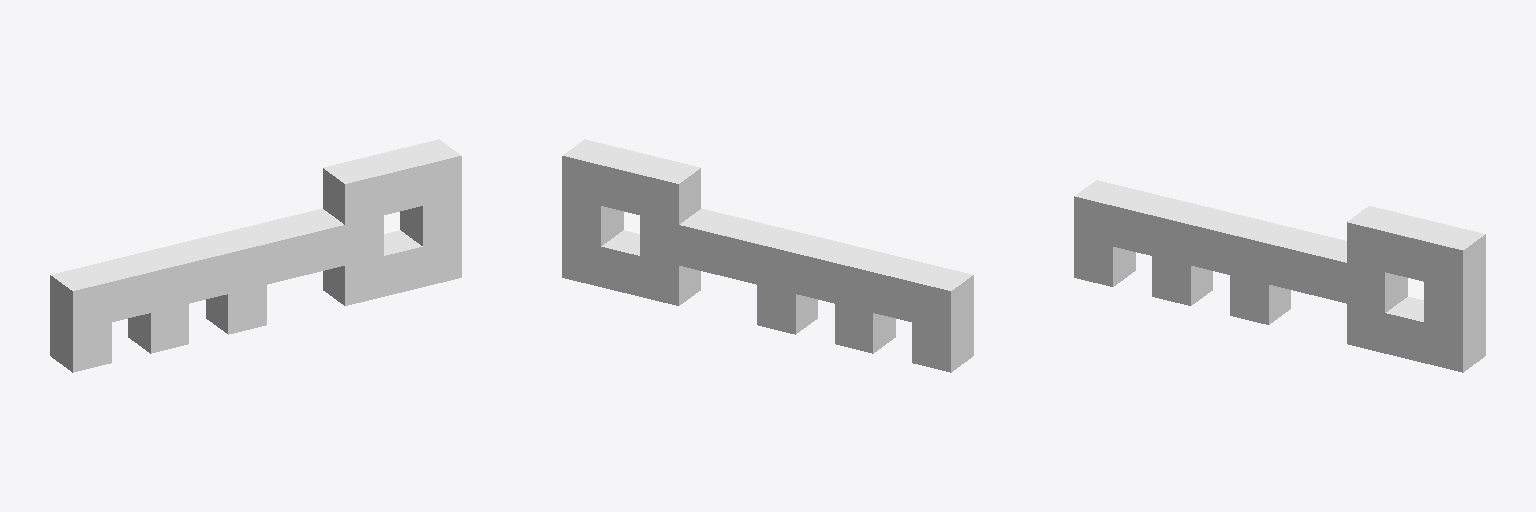
Rendered from bronzeKey.obj.
3 renders of one model, left to right at view 1: azimuth 30°, elevation 25°; view 2: azimuth 150°, elevation 25°; view 3: azimuth 330°, elevation 25°, orthographic.
Parts seen in each view (by area): view 1: bronzeKey; view 2: bronzeKey; view 3: bronzeKey.
Part boxes in pixels (left/top/right/bottom): bronzeKey: left=50, top=139, right=461, bottom=372; bronzeKey: left=562, top=139, right=973, bottom=372; bronzeKey: left=1074, top=180, right=1485, bottom=372.
Size of the model in its own units: 10 by 3 by 1.